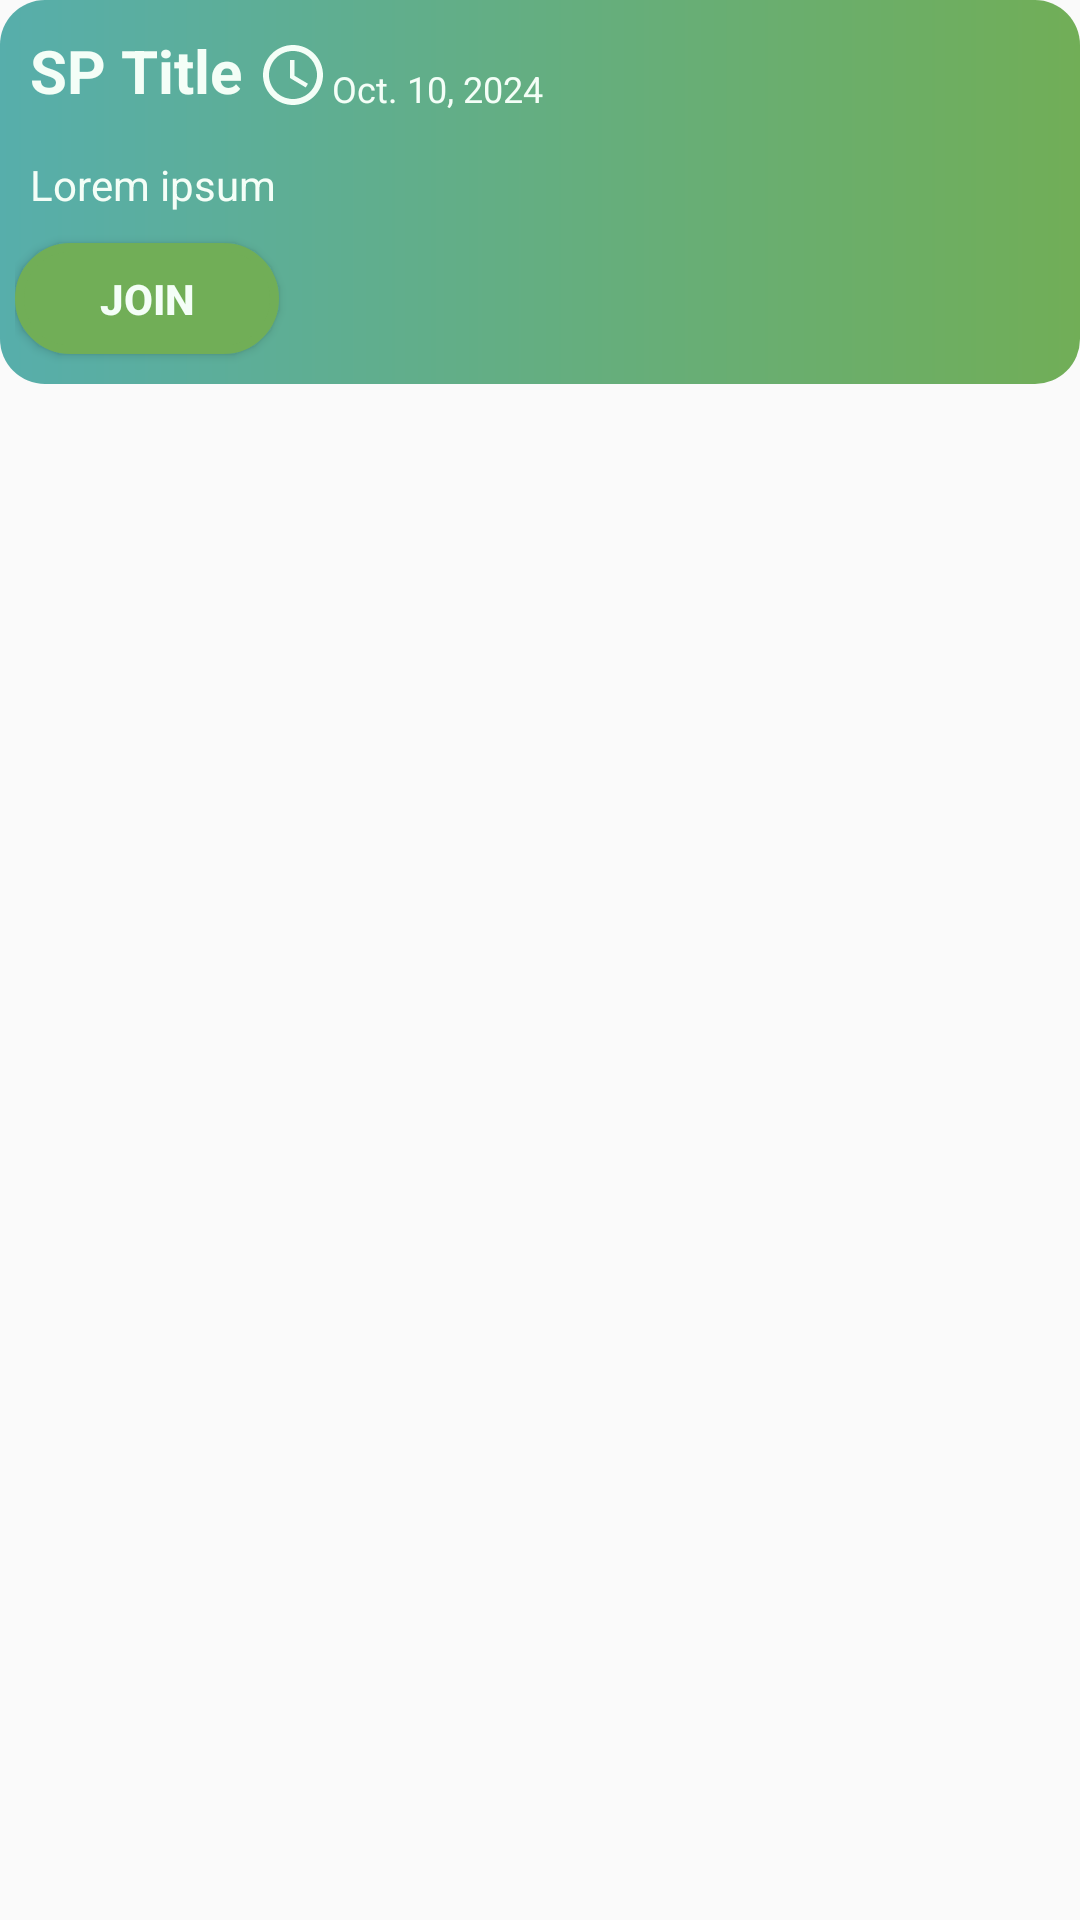

Icon click points for this 1080px×1920px phone screenshot, format [x,y]:
time: [293,75]
